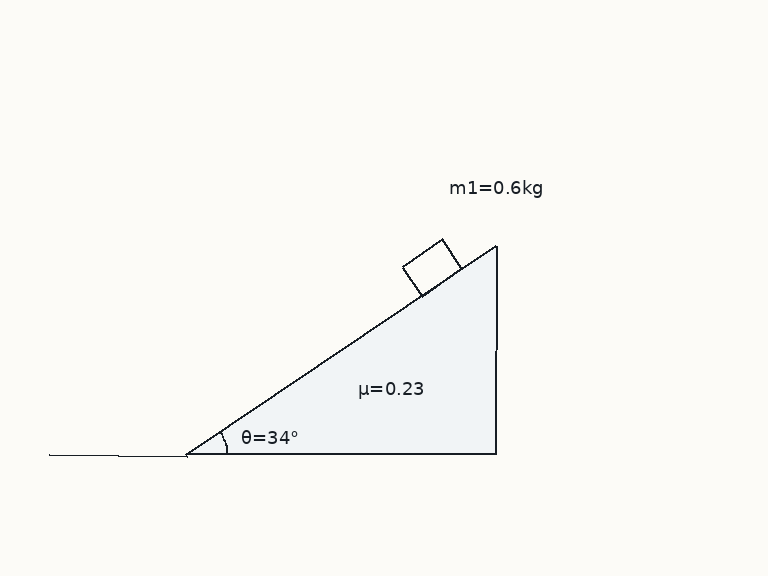block: (399, 237, 464, 298)
ramp: (185, 244, 497, 456)
